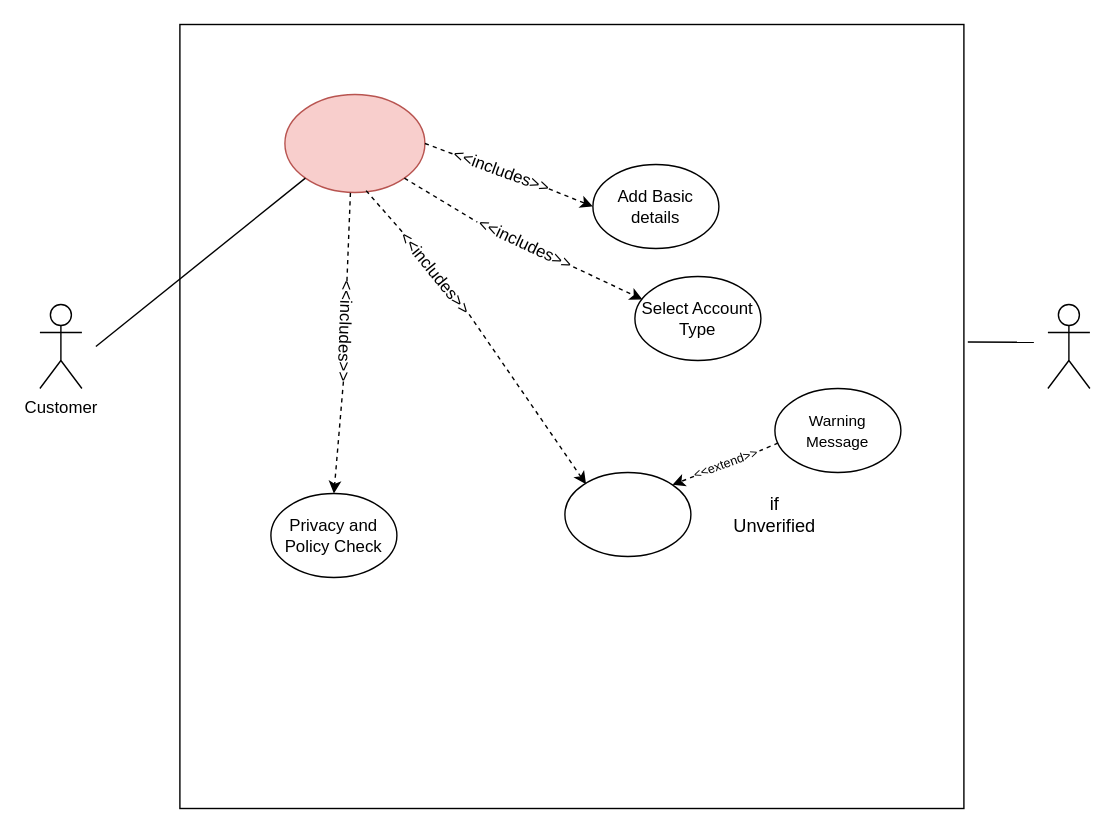
Image size: 1114x833. Some labels were removed from this diagram. Each missing label, with the box of its shape:
Bank: (1046, 303, 1090, 388)
Open Account: (284, 93, 425, 192)
Verify Email and Phone Number: (564, 471, 691, 556)
